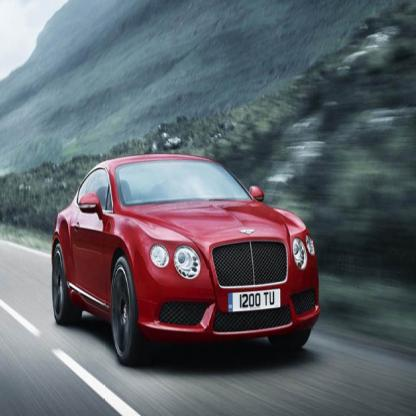Vehicle: (51, 154, 320, 365)
